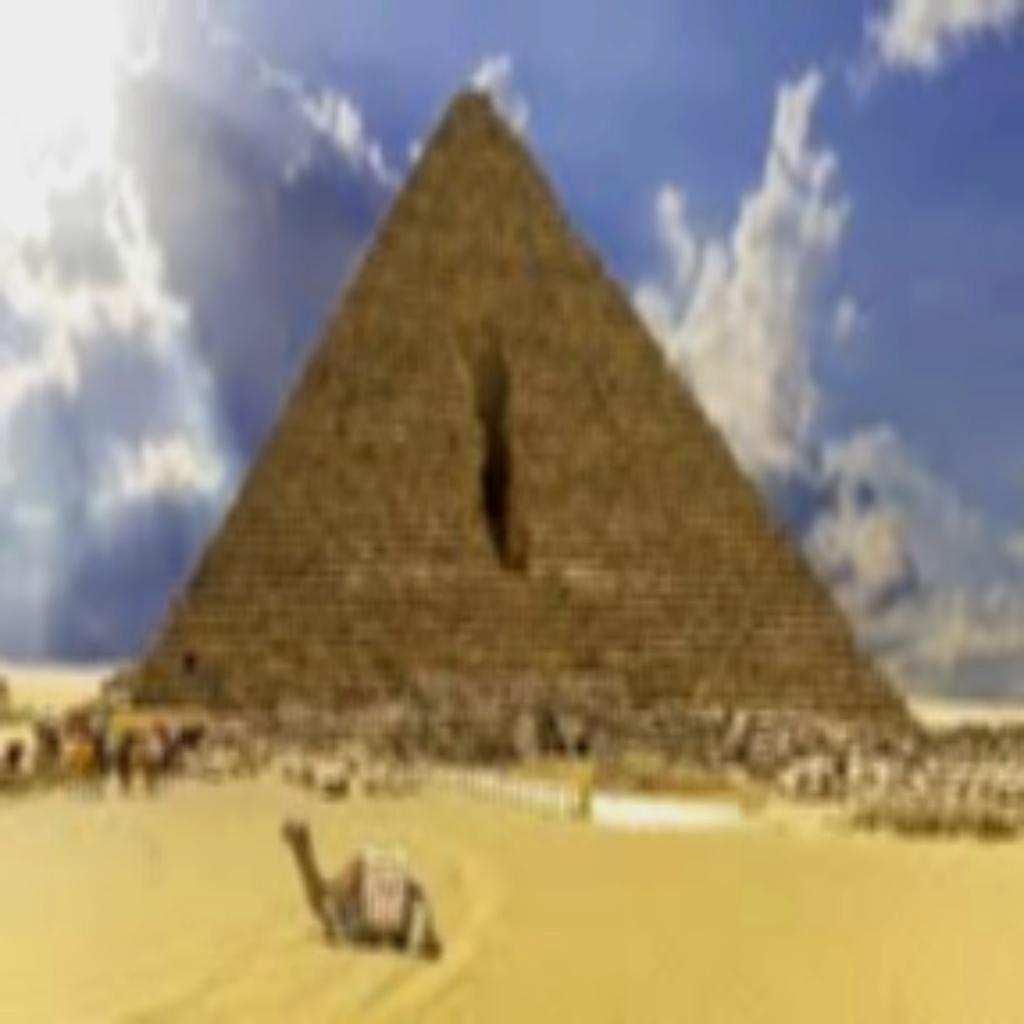Great Pyramids of Giza: (107, 70, 935, 786)
